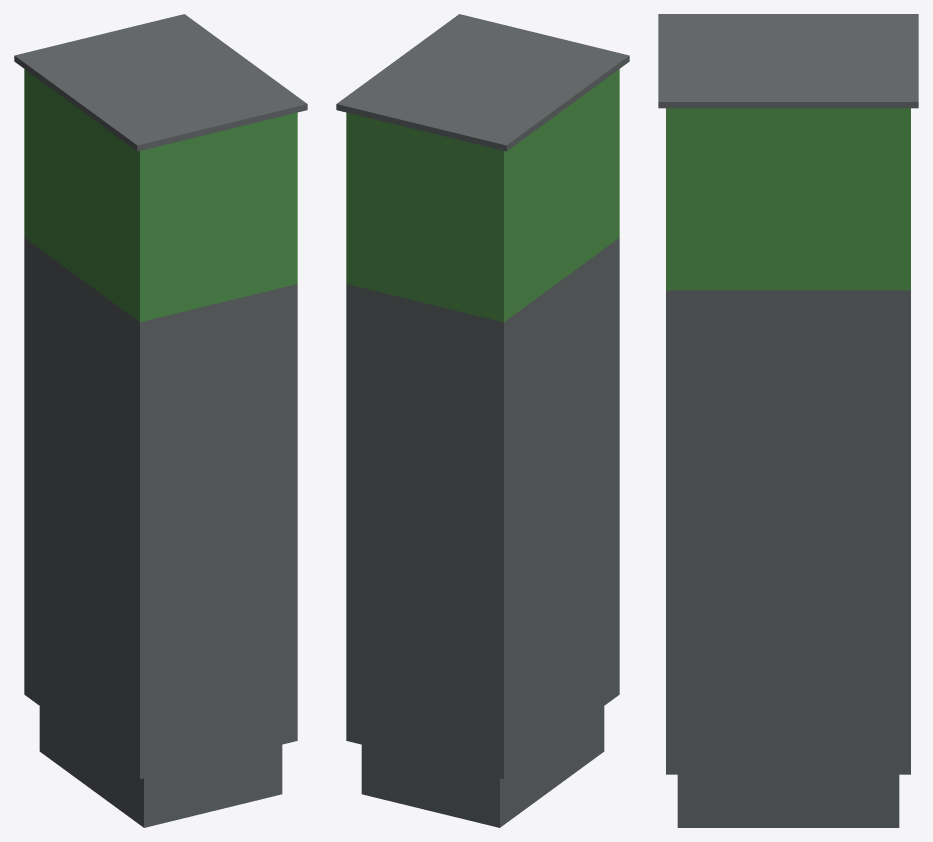
Rendered from SM_column_02.fbx.
The picture shows the model from 3 angles, left to right: view 1: azimuth 30°, elevation 25°; view 2: azimuth 150°, elevation 25°; view 3: azimuth 270°, elevation 25°; orthographic projection. The views are drawn at different scales.
Parts seen in each view (by area): view 1: column_02; view 2: column_02; view 3: column_02.
Part boxes in pixels (<box>): column_02: <box>14,14,307,827</box>; column_02: <box>336,14,629,827</box>; column_02: <box>658,14,918,827</box>.
Bounding box in the file's own units: 173 × 675 × 217.
